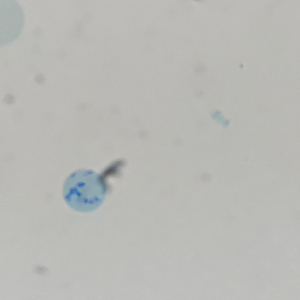aggregate reticulocyte: (60, 167, 109, 214)
